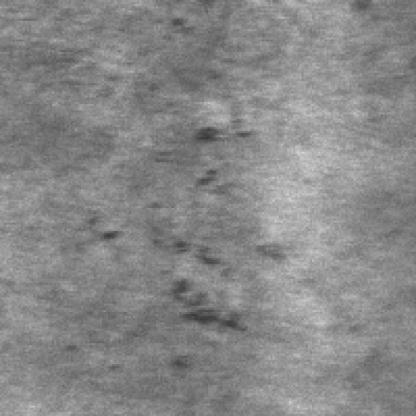rolled-in_scale: (136, 90, 270, 380)
